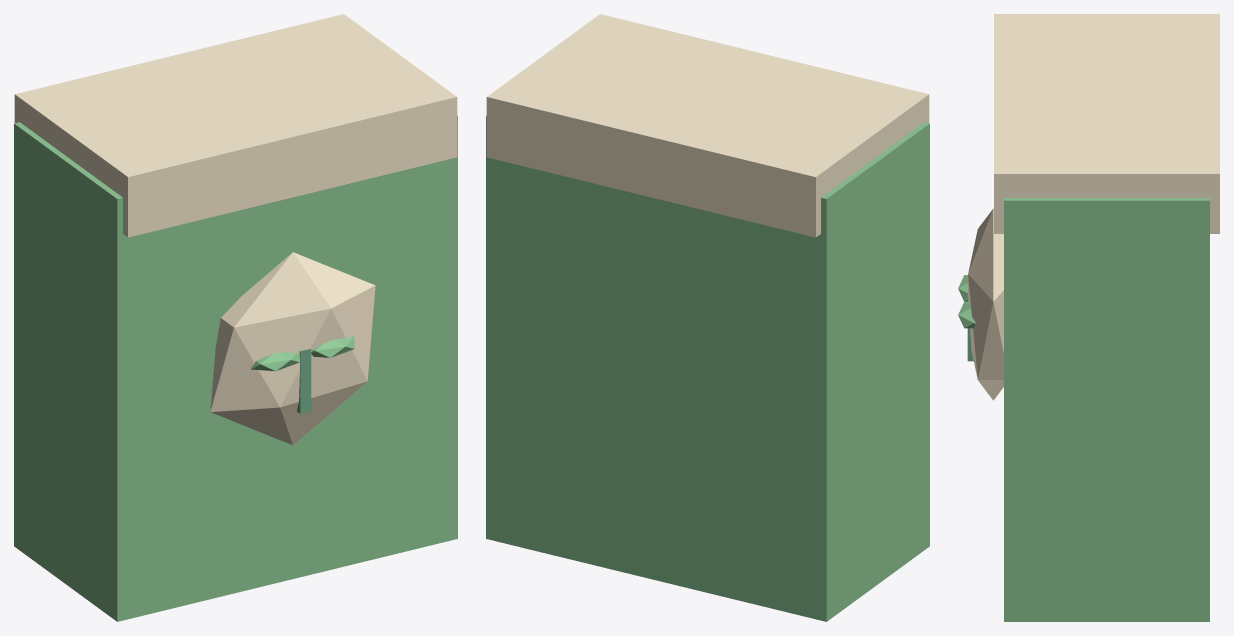
The model's file is fertilizer_basic.glb.
The picture shows the model from 3 angles, left to right: view 1: azimuth 30°, elevation 25°; view 2: azimuth 150°, elevation 25°; view 3: azimuth 270°, elevation 25°; orthographic projection.
Visible parts, largest first — view 1: fertilizer pouch, folded pouch rim, bright emblem, new stem.010, first leaf.020, first leaf.021; view 2: fertilizer pouch, folded pouch rim; view 3: fertilizer pouch, folded pouch rim, bright emblem.
Boxes of the visible parts, x1,y1,x2,y2 form: fertilizer pouch: (14,116,457,621); folded pouch rim: (14,14,457,237); bright emblem: (210,252,375,445); new stem.010: (297,349,311,413); first leaf.020: (251,352,299,371); first leaf.021: (311,336,354,357); fertilizer pouch: (486,116,929,621); folded pouch rim: (486,14,929,237); fertilizer pouch: (1004,198,1209,621); folded pouch rim: (994,14,1219,233); bright emblem: (968,208,1003,400).
Size of the model in its own units: 0.59 by 0.74 by 0.3941.
